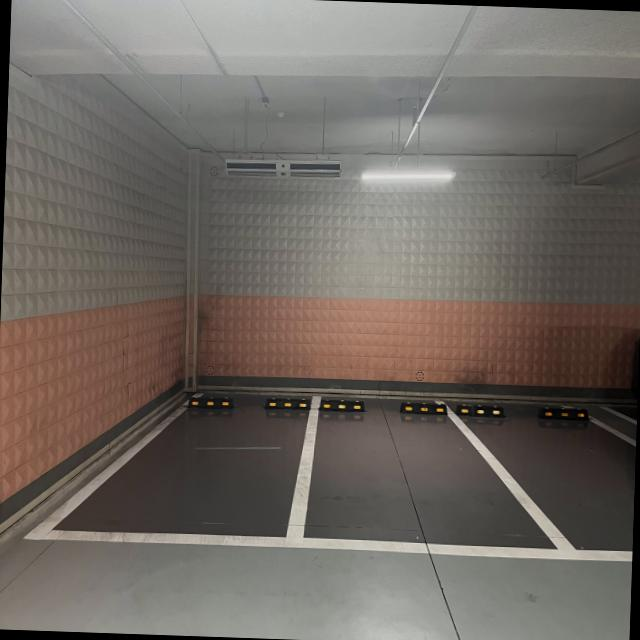free: (0, 376, 317, 543), (298, 398, 582, 563), (477, 400, 633, 558)
